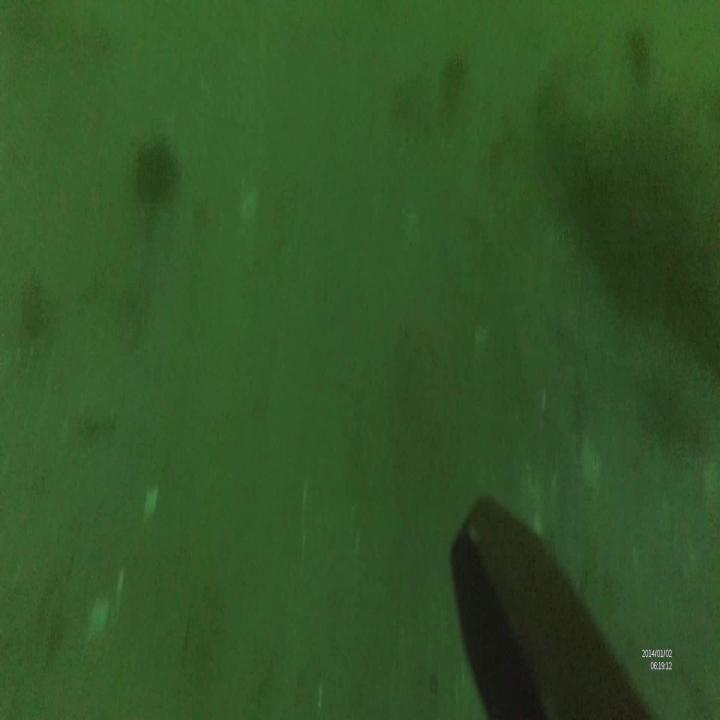echinus: (131, 129, 185, 209)
